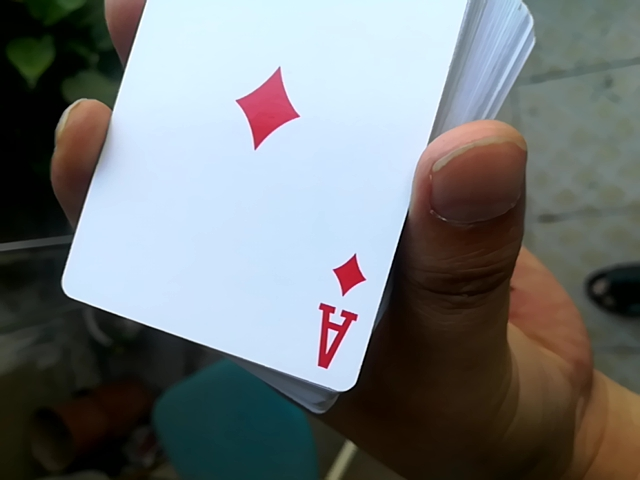fk a: (61, 6, 467, 399)
